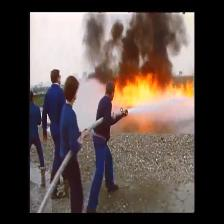fire: (116, 86, 193, 98)
smoke: (89, 17, 173, 78)
